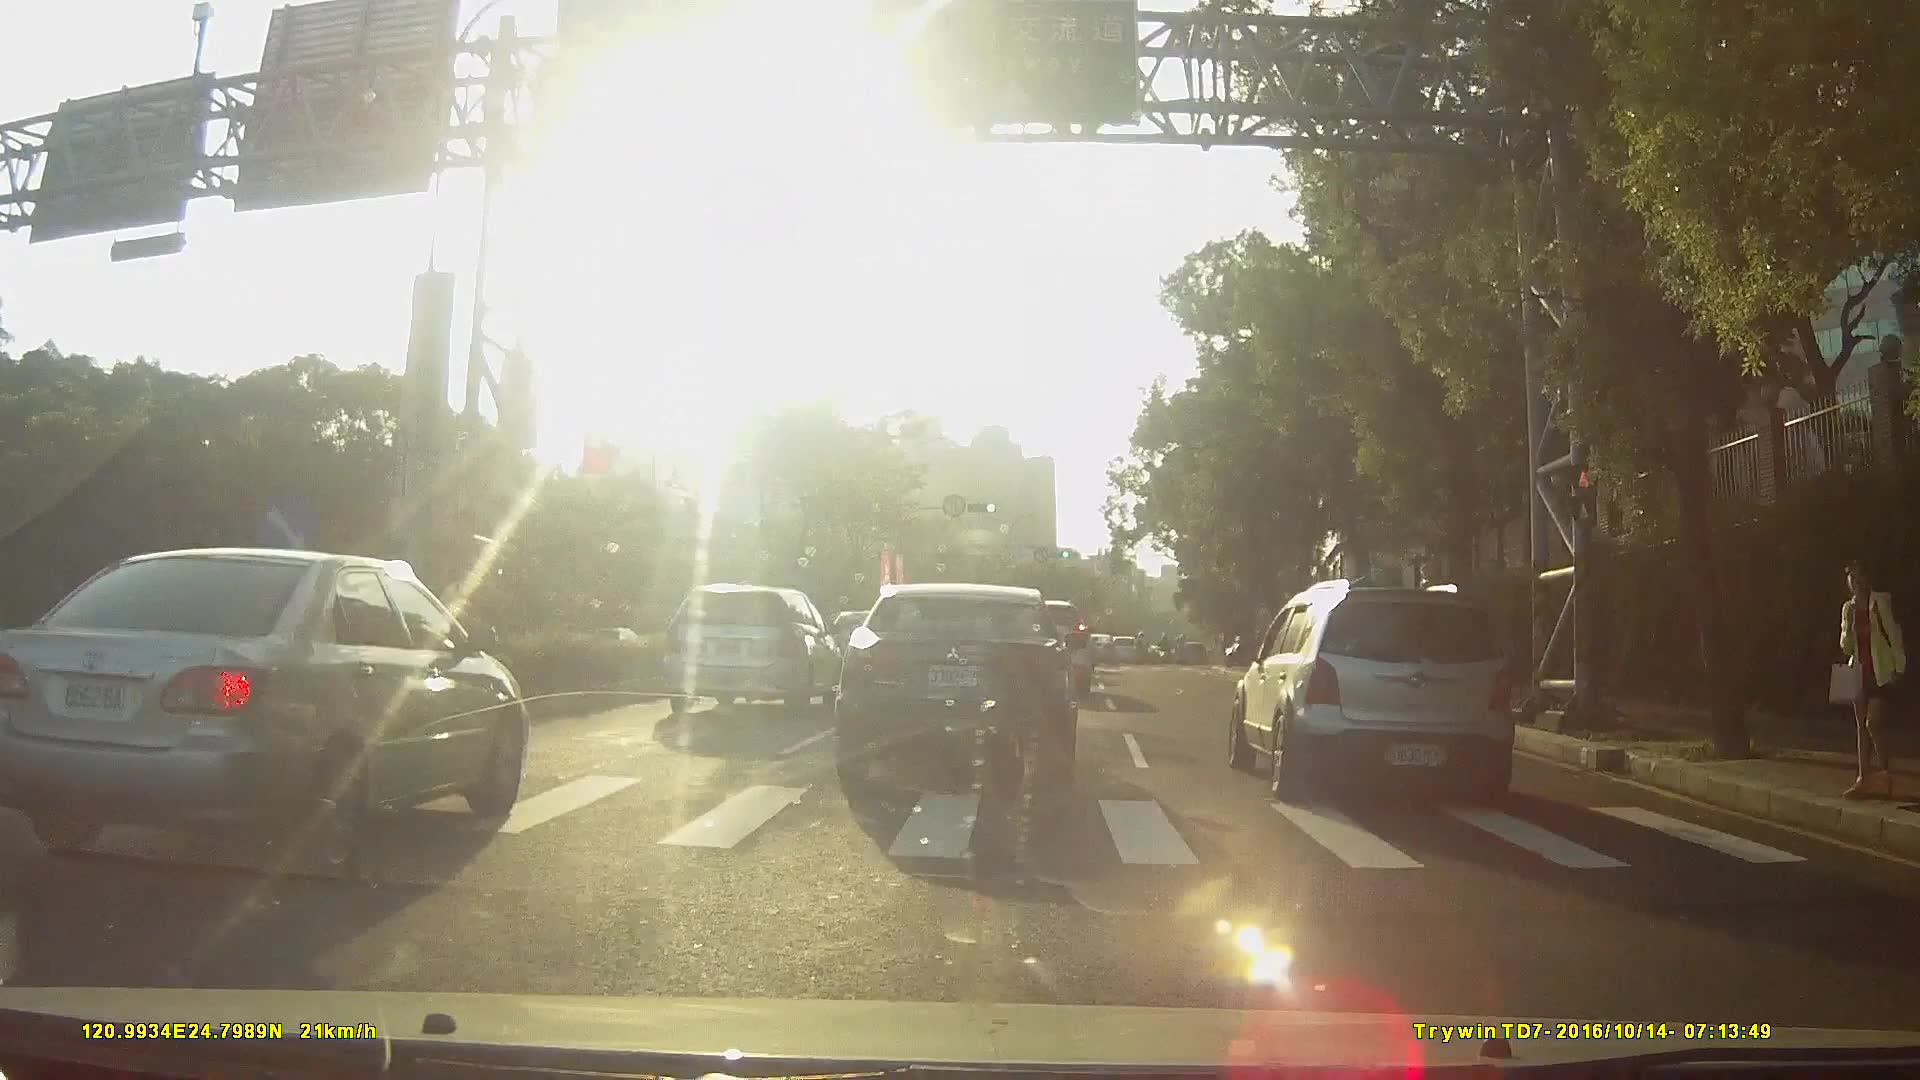pedestrian: (1827, 557, 1904, 803)
vehicle: (1, 547, 551, 893), (1212, 577, 1537, 816), (840, 591, 1093, 800), (652, 589, 841, 722), (1078, 637, 1113, 672), (1101, 641, 1137, 672)
